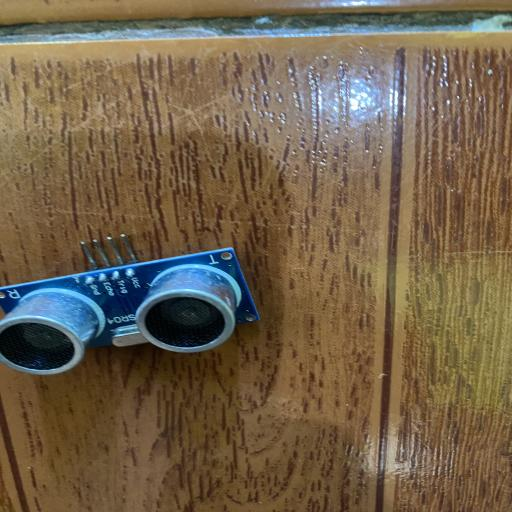Ultrasonic Sensor: (0, 233, 262, 375)
